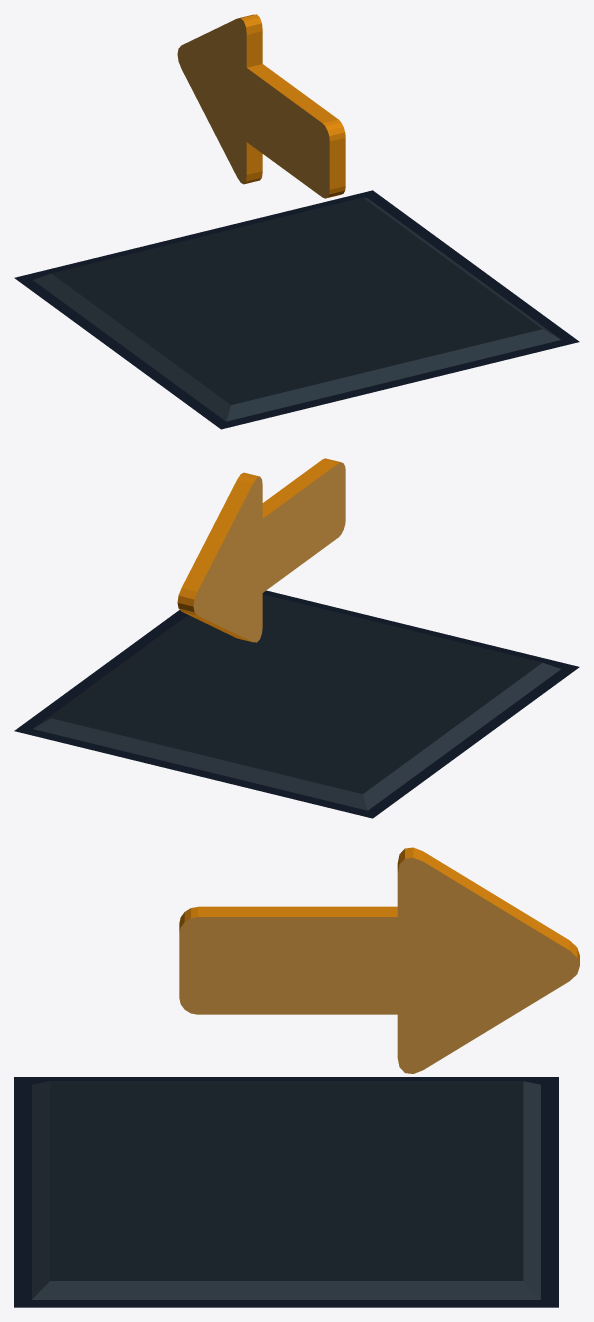
File: RedirectionTile.fbx
The picture shows the model from 3 angles, top to bottom: view 1: azimuth 30°, elevation 25°; view 2: azimuth 150°, elevation 25°; view 3: azimuth 270°, elevation 25°; orthographic projection. The views are drawn at different scales.
Parts seen in each view (by area): view 1: RedirectionTile; view 2: RedirectionTile; view 3: RedirectionTile.
Part boxes in pixels (left/top/right/bottom): RedirectionTile: left=14, top=14, right=579, bottom=429; RedirectionTile: left=14, top=458, right=579, bottom=818; RedirectionTile: left=14, top=847, right=579, bottom=1307.
Size of the model in its own units: 100 by 104 by 68.77.
